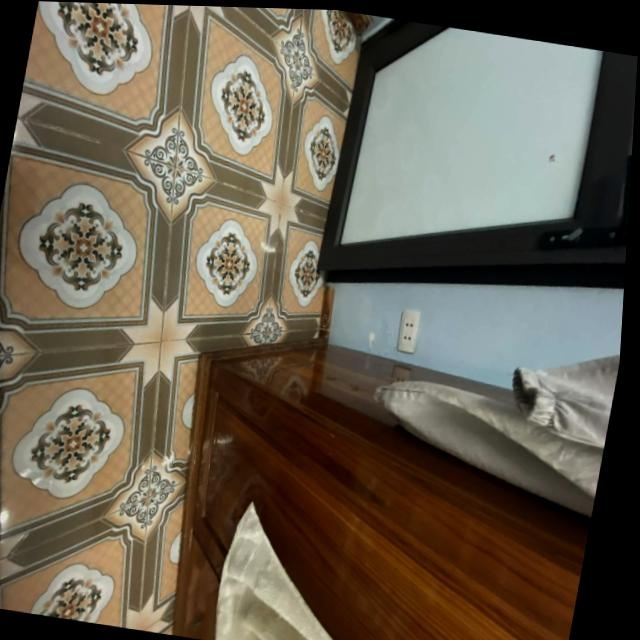outlet: (394, 308, 421, 354)
